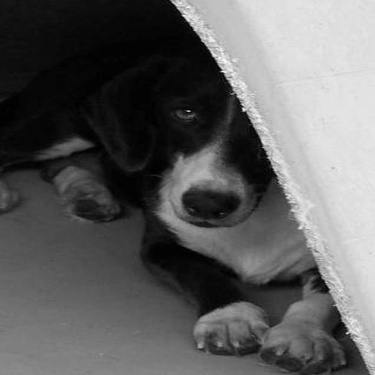dog: (76, 34, 366, 372), (1, 2, 155, 227)
